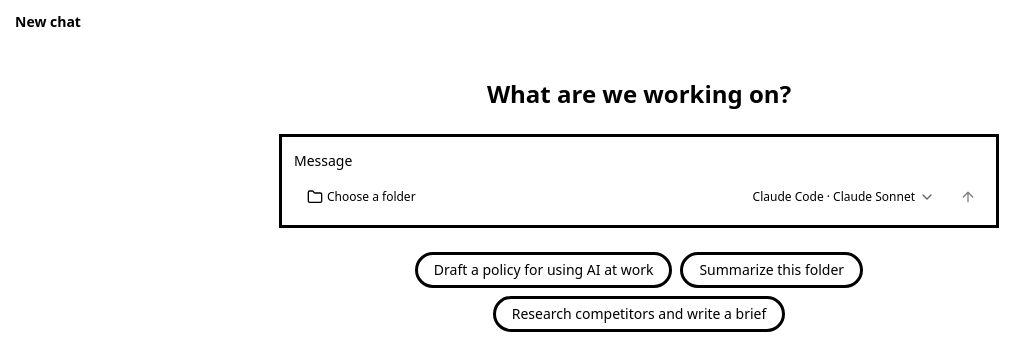
a new chat › writes a starter in the box, and sends nothing
Step 1. Click the button "Summarize this folder" → (772, 270), box top-left (680, 252), bottom-right (863, 288)
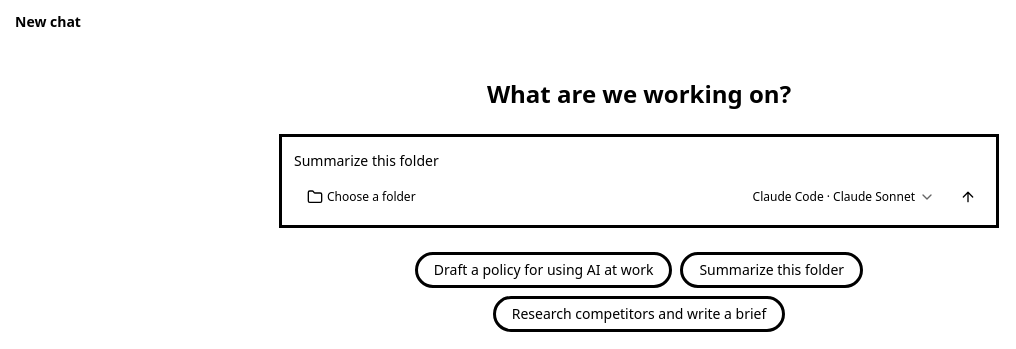
Check: the text box named "Message" holds "Summarize this folder", box top-left (294, 149), bottom-right (984, 173)
